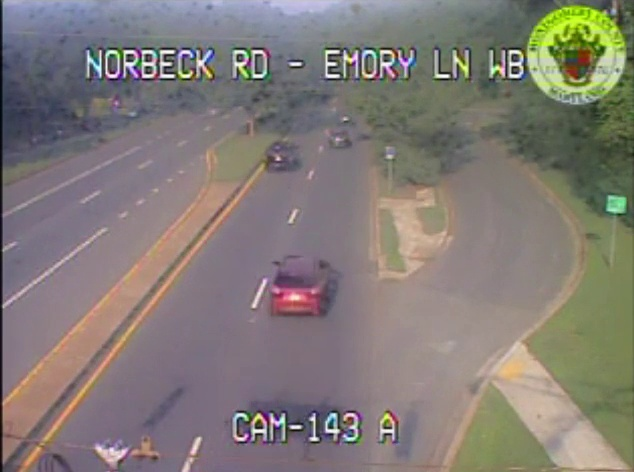car: (271, 257, 327, 313), (267, 143, 297, 168)
